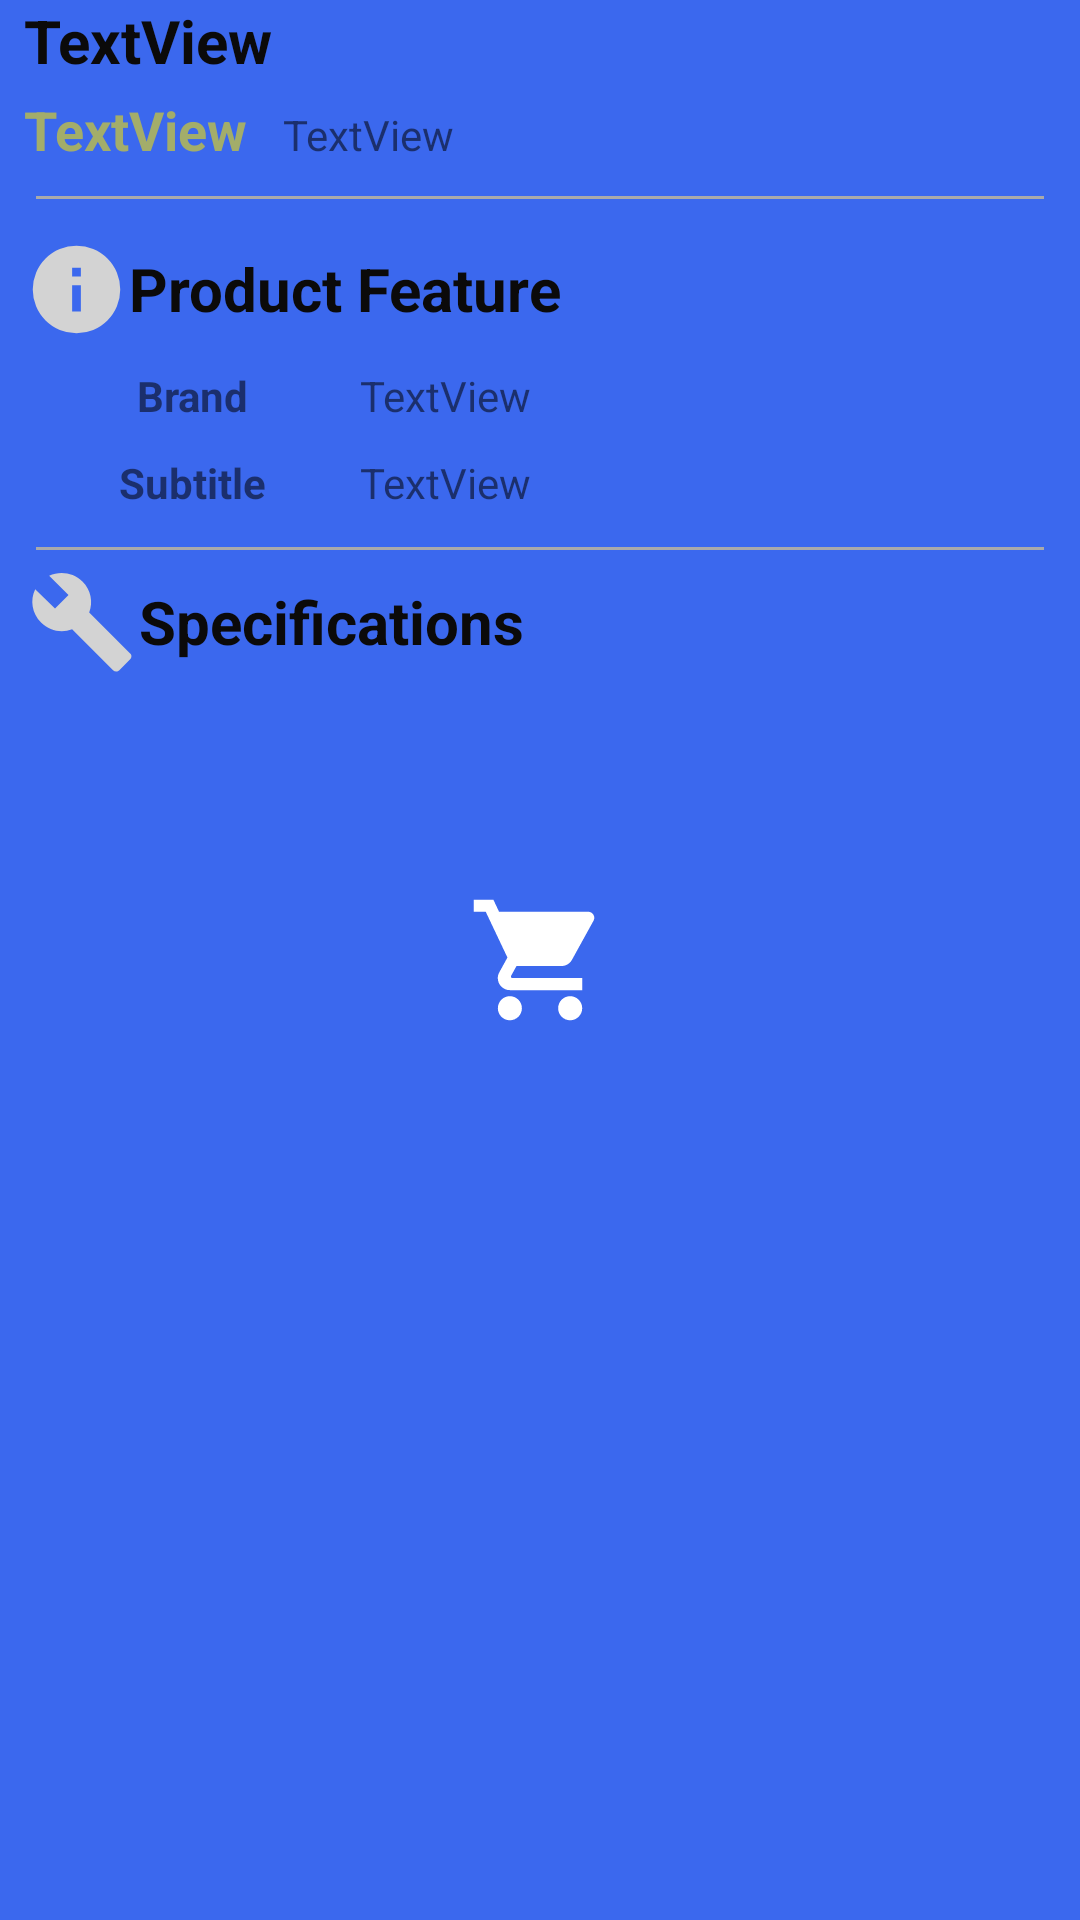

Icons on this 1080 x 1920 Android screen, each with its box as (x1, y1, x2, y2):
information: (32, 245, 121, 334)
wrench: (32, 573, 132, 672)
